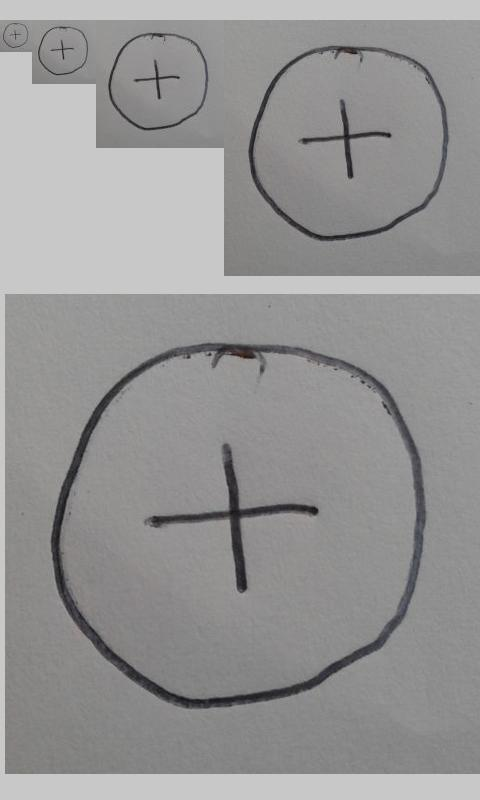button: (50, 339, 429, 712), (248, 45, 449, 242), (107, 32, 210, 131), (37, 26, 89, 76), (2, 22, 29, 49)
